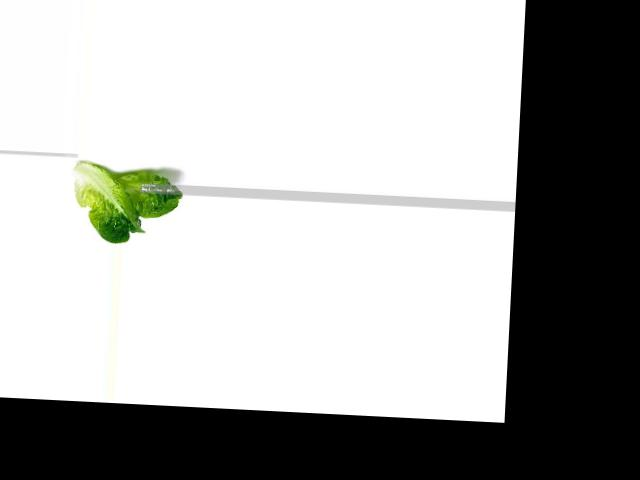lettuce: (67, 165, 186, 247)
